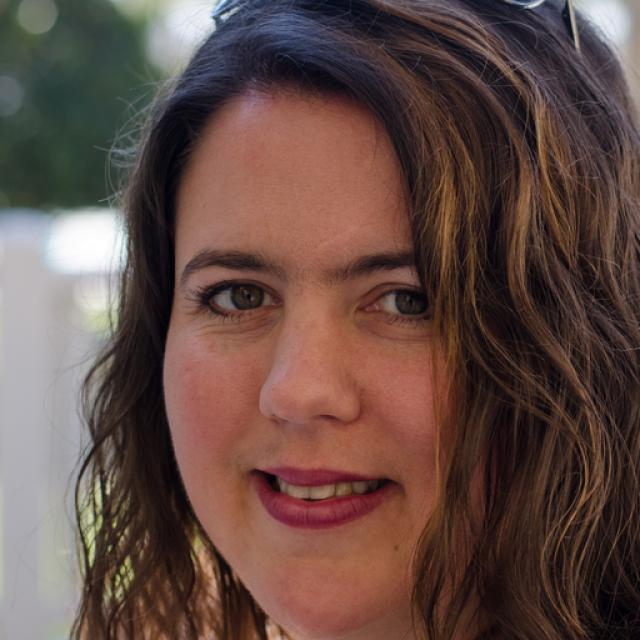happy: (162, 95, 472, 620)
